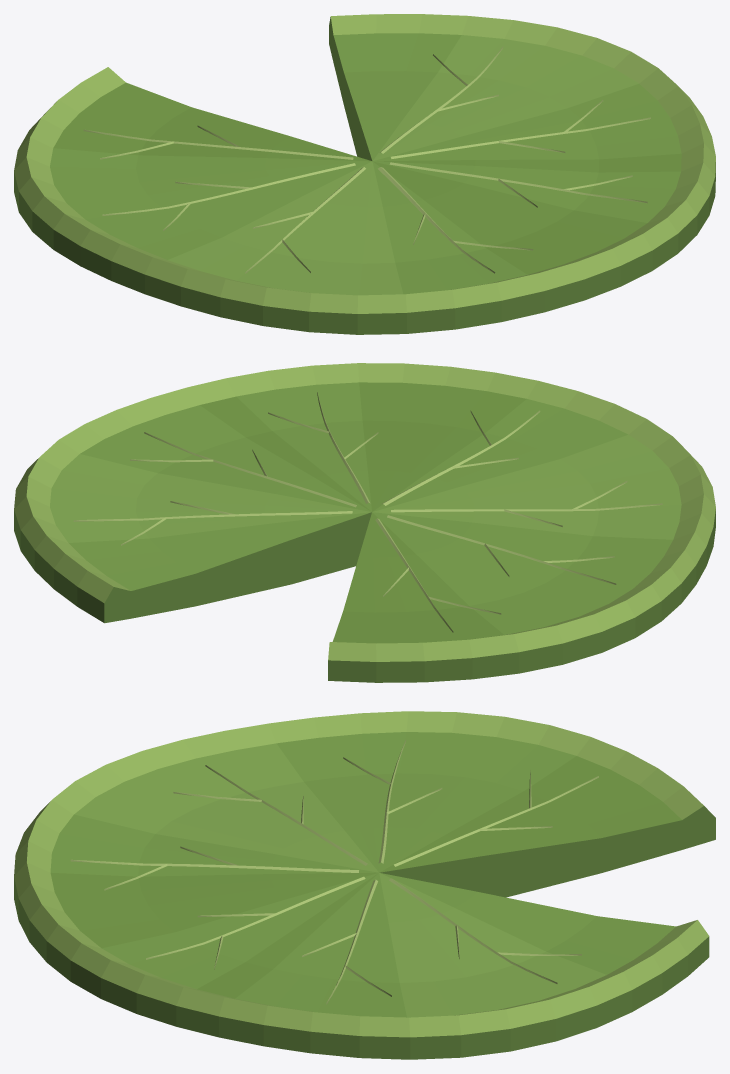
File: lily_pad.glb
The picture shows the model from 3 angles, top to bottom: view 1: azimuth 30°, elevation 25°; view 2: azimuth 150°, elevation 25°; view 3: azimuth 270°, elevation 25°; orthographic projection. The views are drawn at different scales.
Visible parts, largest first — view 1: LilyPad; view 2: LilyPad; view 3: LilyPad.
Part boxes in pixels (x1,y1,x2,y2): LilyPad: [14, 14, 715, 334]; LilyPad: [14, 363, 715, 682]; LilyPad: [14, 711, 715, 1059].
Size of the model in its own units: 0.908 by 0.0842 by 0.8466.
